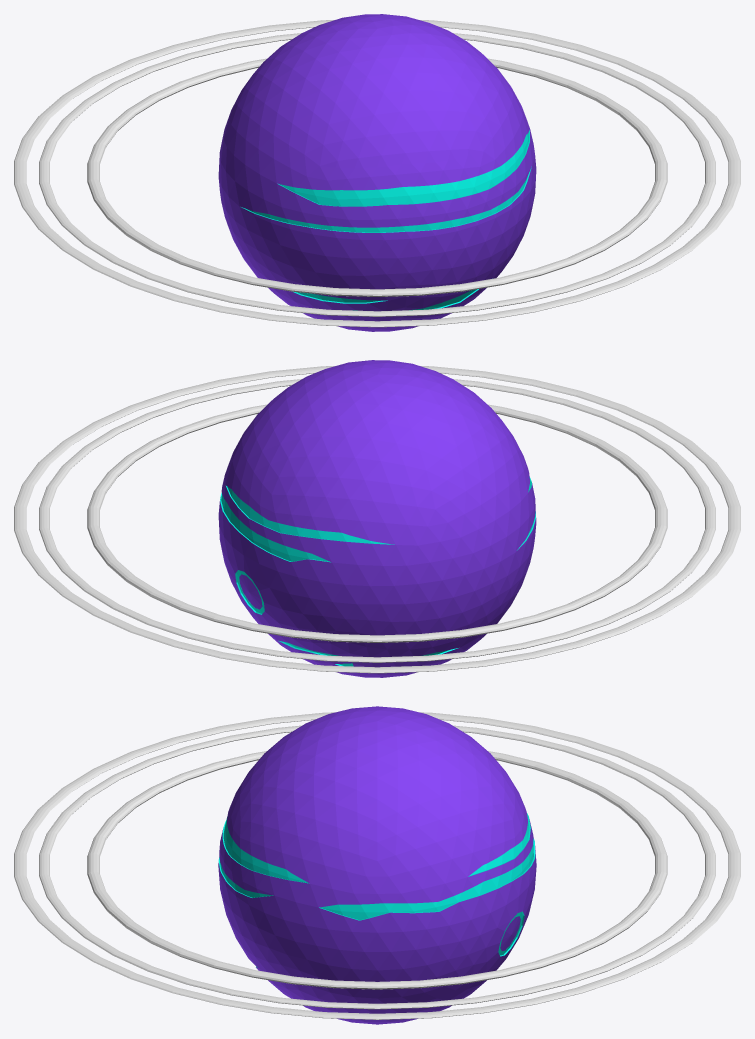
The model's file is Planet17.glb.
3 views of the same model, one above another, from view 1: azimuth 30°, elevation 25°; view 2: azimuth 150°, elevation 25°; view 3: azimuth 270°, elevation 25° (orthographic).
Visible parts, largest first — view 1: Planet12, Ring5, Ring2, Ring7; view 2: Planet12, Ring5, Ring2, Ring7; view 3: Planet12, Ring5, Ring7, Ring2.
Part boxes in pixels (<box>): Planet12: <box>218,14,536,331</box>; Ring5: <box>14,20,740,327</box>; Ring2: <box>87,58,667,296</box>; Ring7: <box>39,33,715,316</box>; Planet12: <box>218,360,536,677</box>; Ring5: <box>14,366,740,673</box>; Ring2: <box>87,404,667,642</box>; Ring7: <box>39,379,715,662</box>; Planet12: <box>218,706,536,1024</box>; Ring5: <box>14,712,740,1019</box>; Ring7: <box>39,725,715,1009</box>; Ring2: <box>87,751,667,989</box>.
Bounding box in the file's own units: 22.9 × 10 × 22.84.
